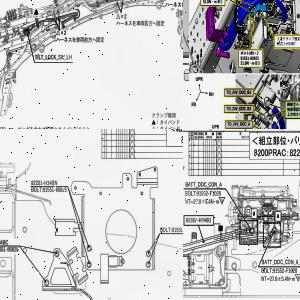PartNumber: (31, 179, 58, 186), (185, 217, 212, 223), (272, 268, 298, 274), (196, 190, 222, 196), (43, 187, 67, 192), (0, 246, 19, 252), (276, 41, 296, 46), (240, 56, 259, 60), (171, 226, 183, 232), (0, 239, 8, 245)
